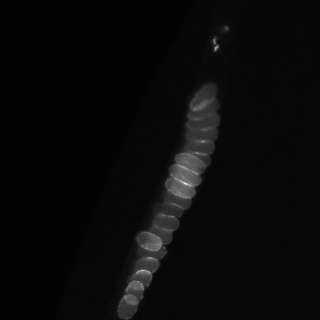embryo: (169, 163, 201, 187), (189, 83, 216, 111), (173, 152, 206, 174), (185, 112, 219, 133), (165, 178, 195, 200), (187, 101, 218, 120), (121, 280, 144, 305), (163, 190, 191, 210), (117, 294, 139, 319), (151, 213, 179, 232), (136, 231, 162, 251), (126, 270, 152, 290), (137, 243, 166, 260), (133, 257, 159, 274), (149, 225, 172, 244), (185, 127, 218, 140), (188, 139, 214, 155), (157, 203, 186, 217)
